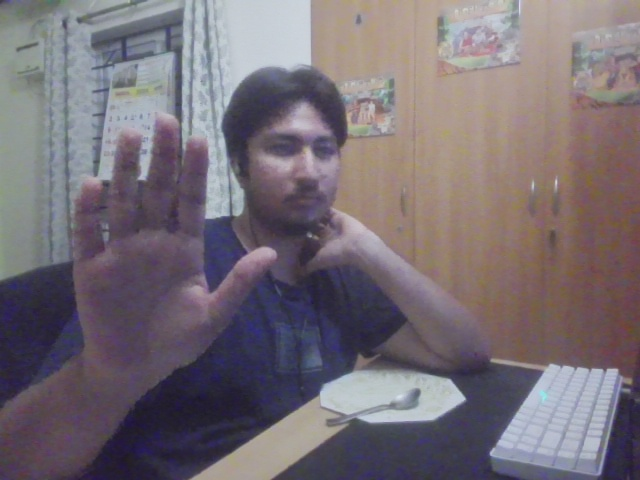hello: (68, 108, 284, 388)
